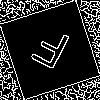F: (25, 25, 73, 79)
